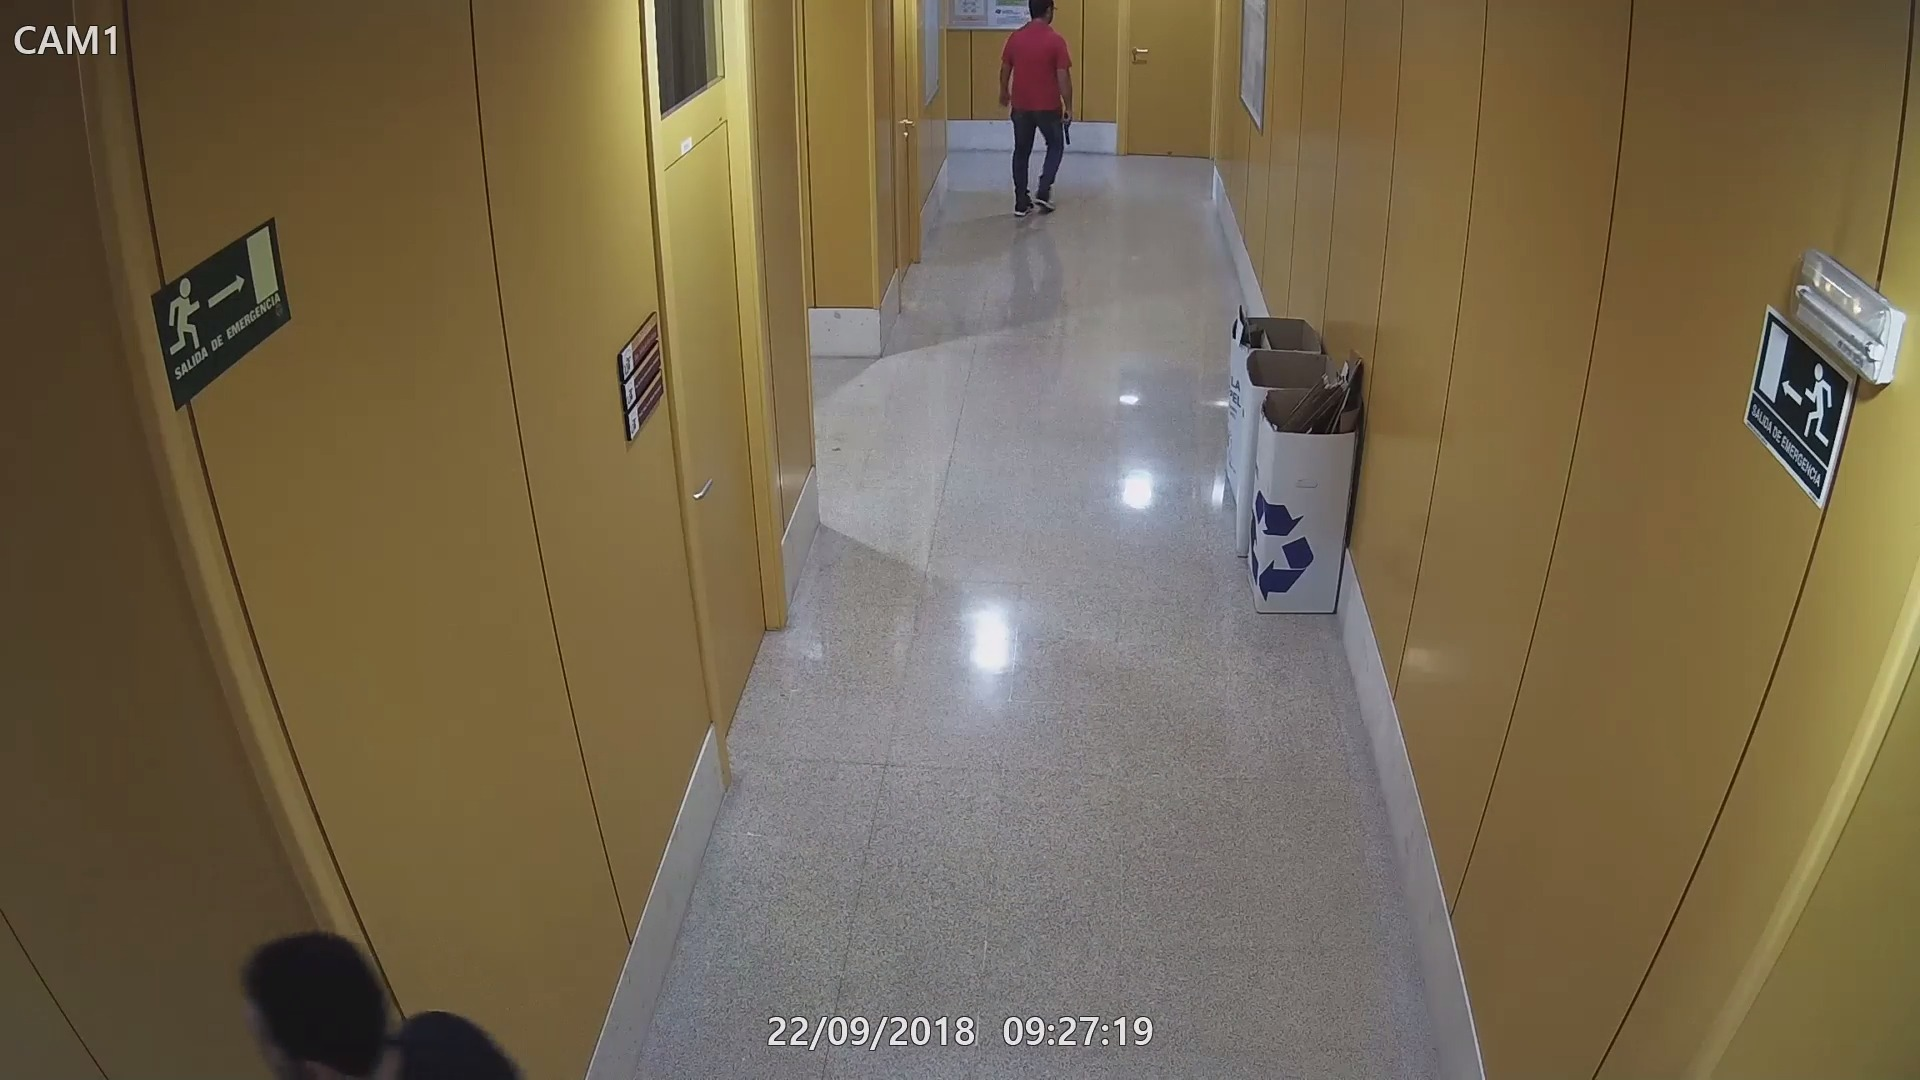Handgun: (1054, 104, 1077, 145)
